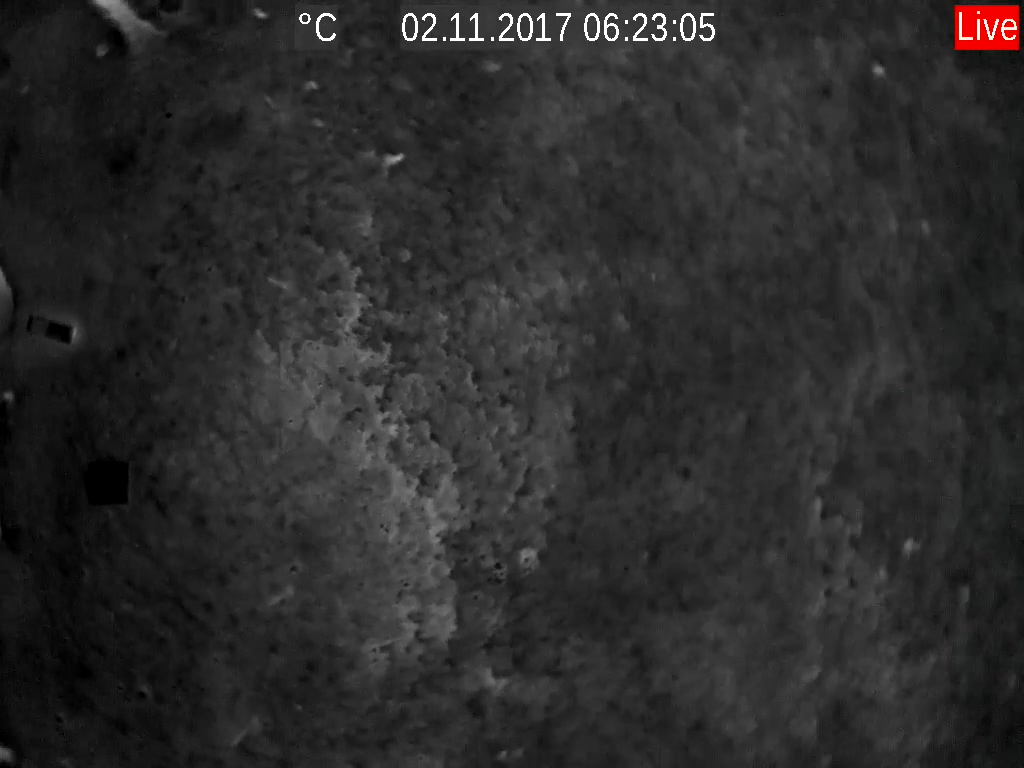warren: (377, 146, 410, 175)
